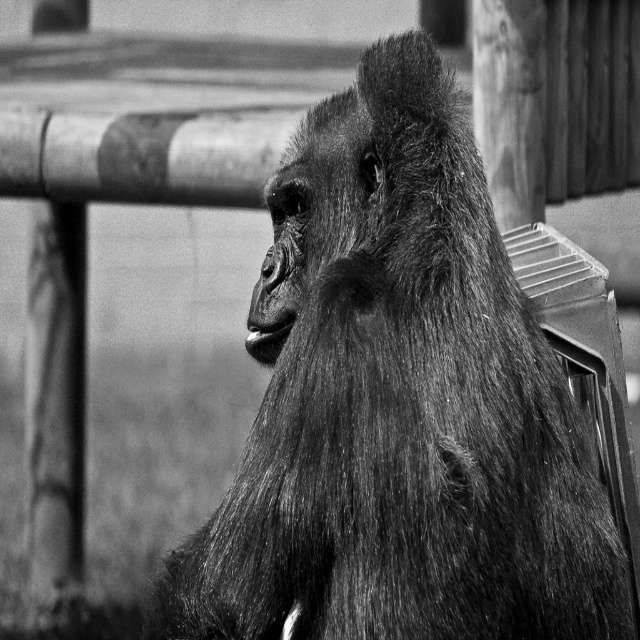Monkey: (138, 59, 628, 640)
